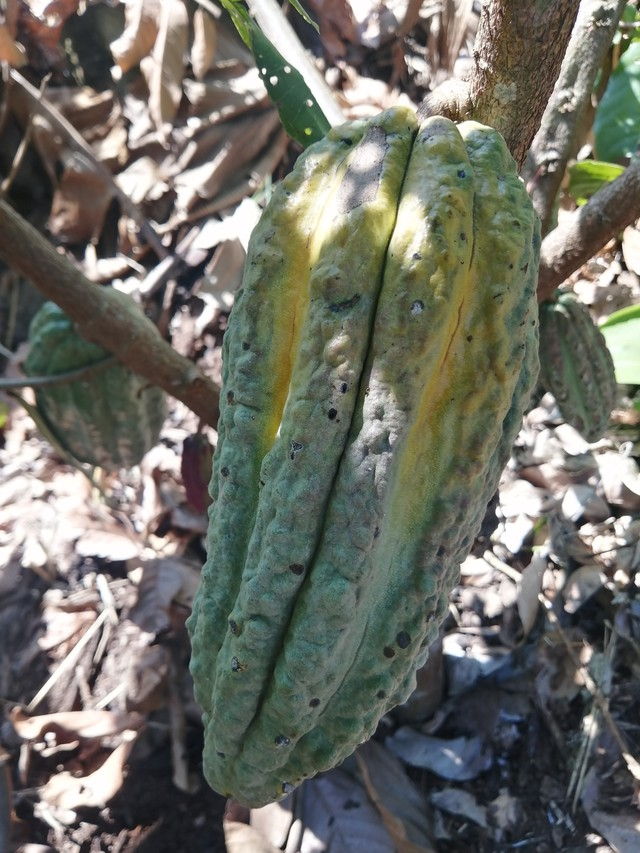moniliophthora perniciosa: (169, 91, 550, 815)
